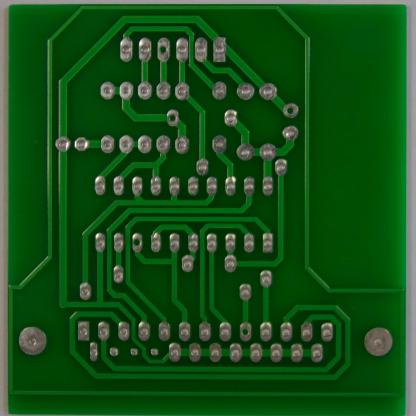missing_hole: (282, 102, 298, 118), (156, 41, 171, 58), (237, 324, 253, 339), (130, 234, 144, 250), (166, 110, 179, 124)
